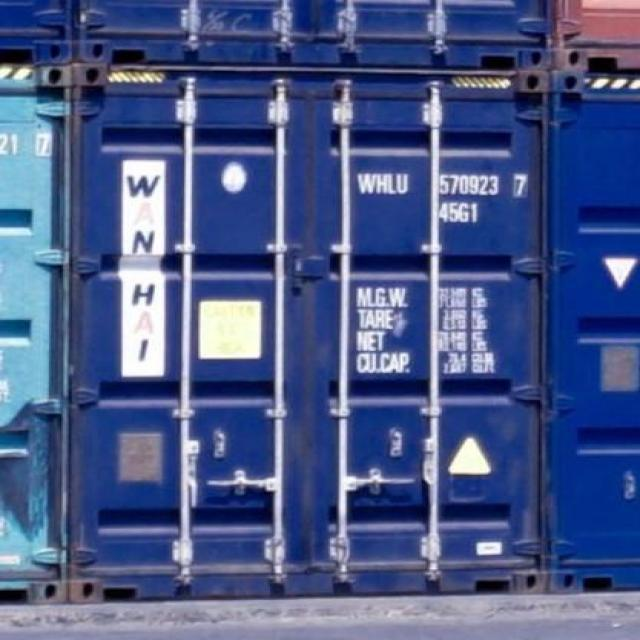ISO: (444, 202, 482, 224)
container_number: (361, 174, 526, 199), (0, 128, 54, 158)
